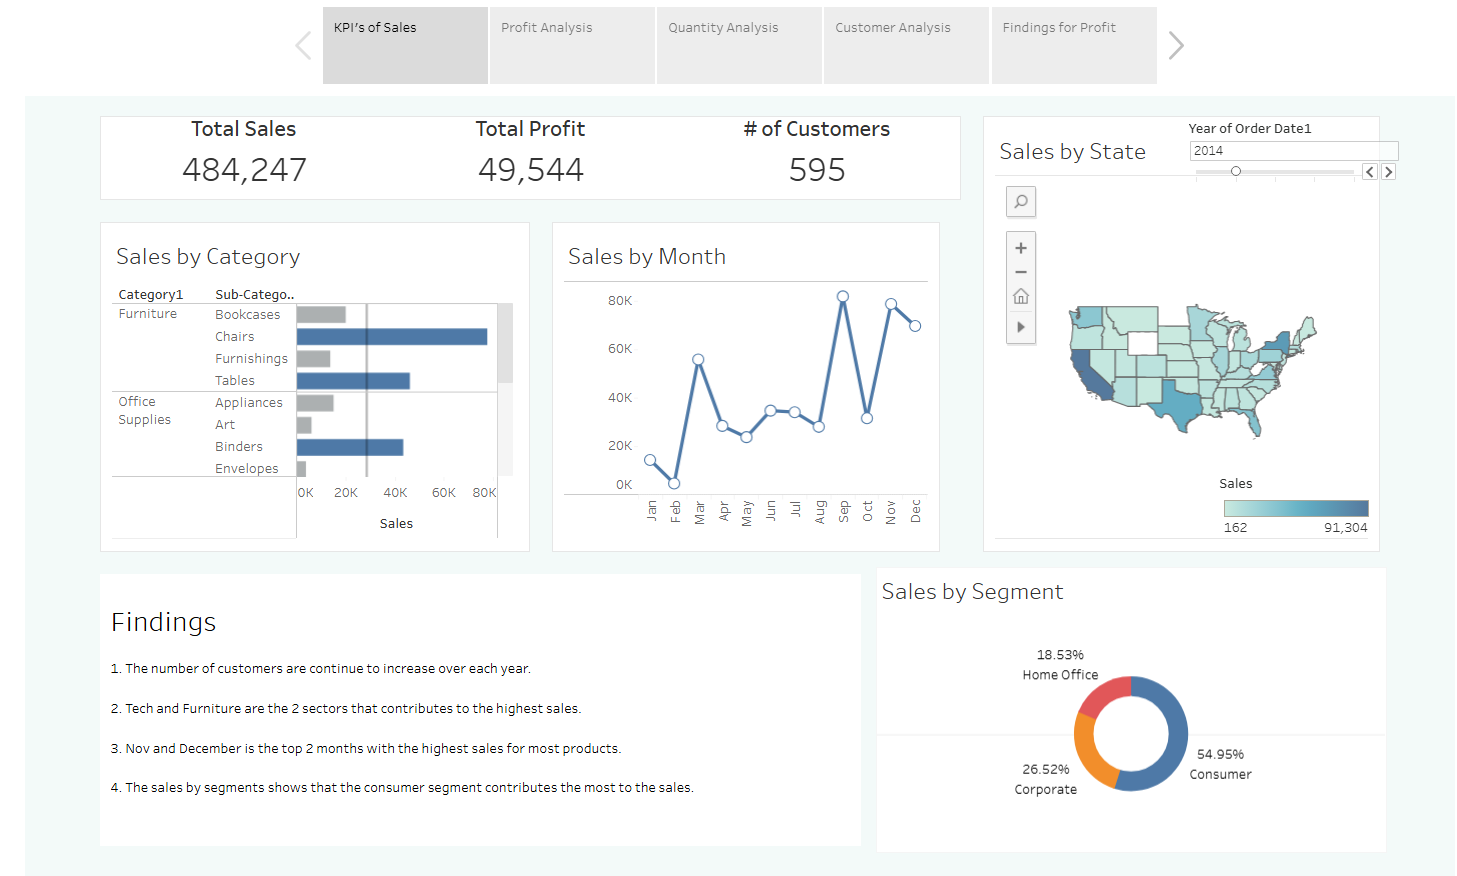

What the dashboard file says about the page in this screenshot:
{"tool":"tableau","page":{"name":"1Sales","canvas":[1200,700],"ordinal":0},"visuals":[{"type":"worksheet","title":"KPIs","mark":"Automatic","box":[8,8,803,96.1]},{"type":"worksheet","title":"Sales by State","mark":"Automatic","box":[811,8,381,416]},{"type":"filter","title":"KPIs","param":"[federated.1har0ix0gwi5d918z7zvp0w6rfz3].[yr:Order Date:ok]","box":[1008,21,192,59]},{"type":"worksheet","title":"Sales by Category","mark":"Automatic","rows":["Category","Sub-Category"],"cols":["Sales"],"box":[8,104.1,411,319.9]},{"type":"worksheet","title":"Sales by Month","mark":"Automatic","rows":["Sales","Sales"],"cols":["Order Date"],"box":[419,104.1,373,319.9]},{"type":"legend","title":"Sales by State","param":"[federated.1har0ix0gwi5d918z7zvp0w6rfz3].[sum:Sales:qk]","box":[1036,343,140,88.7]},{"type":"text","box":[8,424,712,268]},{"type":"worksheet","title":"Sales by Segment","mark":"Pie","rows":["Calculation_766456409344909313","Calculation_766456409344909313"],"box":[720,424,472,268]}]}

Visuals, with their boxes in screenshot pixels (x1, y1, x2, y2), scaled from the page's 1200x700 canvas onto the 1457x876 screenshot:
"KPIs" worksheet: bbox=(10, 10, 985, 130)
"Sales by State" worksheet: bbox=(985, 10, 1447, 531)
"KPIs" filter: bbox=(1224, 26, 1456, 100)
"Sales by Category" worksheet: bbox=(10, 130, 509, 531)
"Sales by Month" worksheet: bbox=(509, 130, 962, 531)
"Sales by State" legend: bbox=(1258, 429, 1428, 540)
text: bbox=(10, 531, 874, 866)
"Sales by Segment" worksheet (Pie marks): bbox=(874, 531, 1447, 866)
